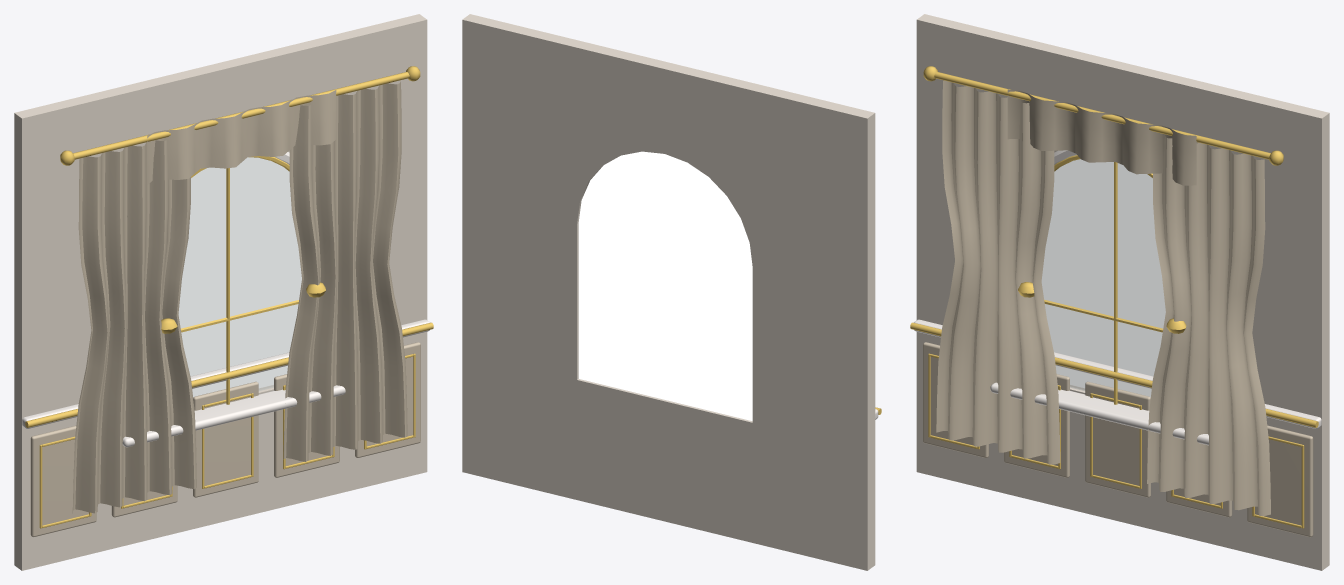
The model's file is wall_window_curtains.glb.
3 views of the same model, side by side, from view 1: azimuth 30°, elevation 25°; view 2: azimuth 150°, elevation 25°; view 3: azimuth 330°, elevation 25° (orthographic).
Parts seen in each view (by area): view 1: wall_window_curtains; view 2: wall_window_curtains; view 3: wall_window_curtains.
Part boxes in pixels (box(x1,y1,x2,y2)): wall_window_curtains: box(14, 14, 433, 570); wall_window_curtains: box(462, 14, 881, 570); wall_window_curtains: box(910, 14, 1329, 570).
Size of the model in its own units: 3 by 3.2 by 0.38.
